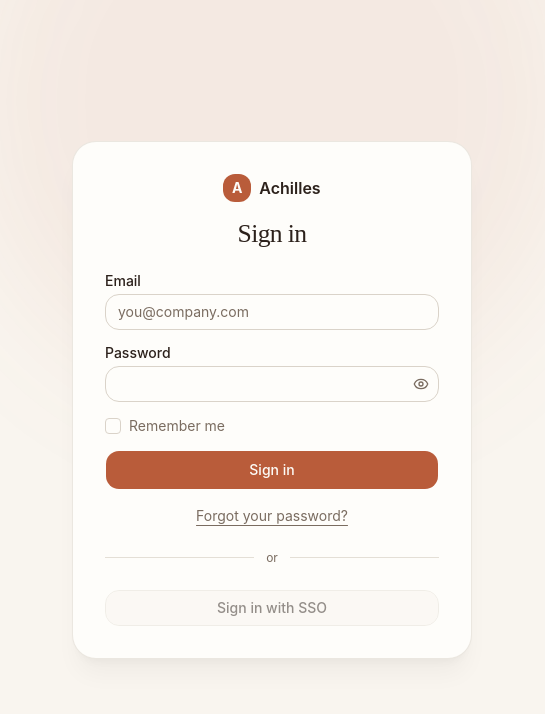
Test: LoginPage › shows a credentials error and stays on the form
Type "m@acme.example" into the field labelled "Email".
click(272, 312); type("m@acme.example")  # box [105, 294, 439, 330]
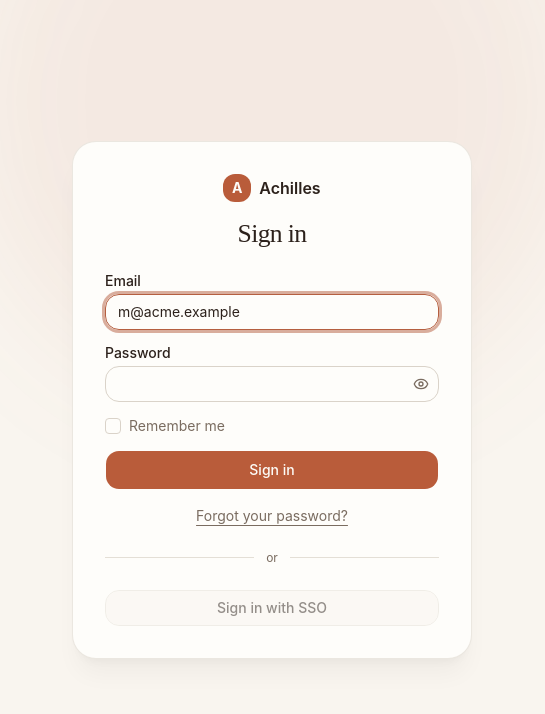
Type "wrong" into the password field labelled "Password".
click(272, 384); type("wrong")  # box [105, 366, 439, 402]
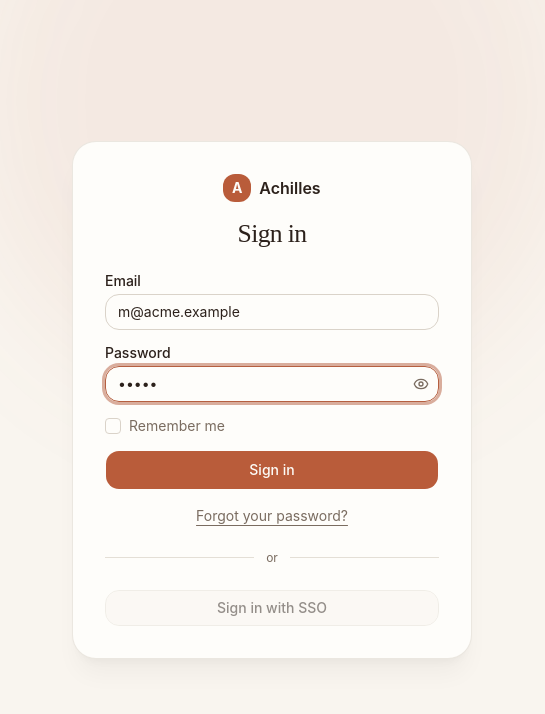
Click the button "Sign in".
click(272, 470)  # box [105, 450, 439, 490]
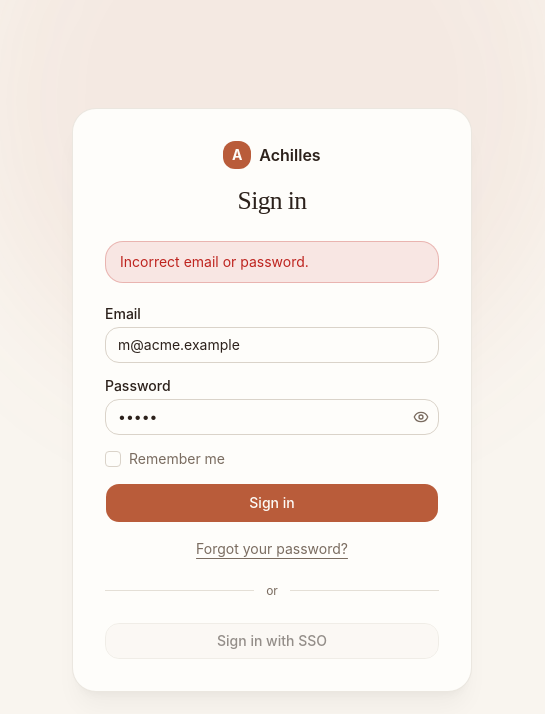
Expected: the text "Incorrect email or password." is shown, [105, 241, 439, 283]
